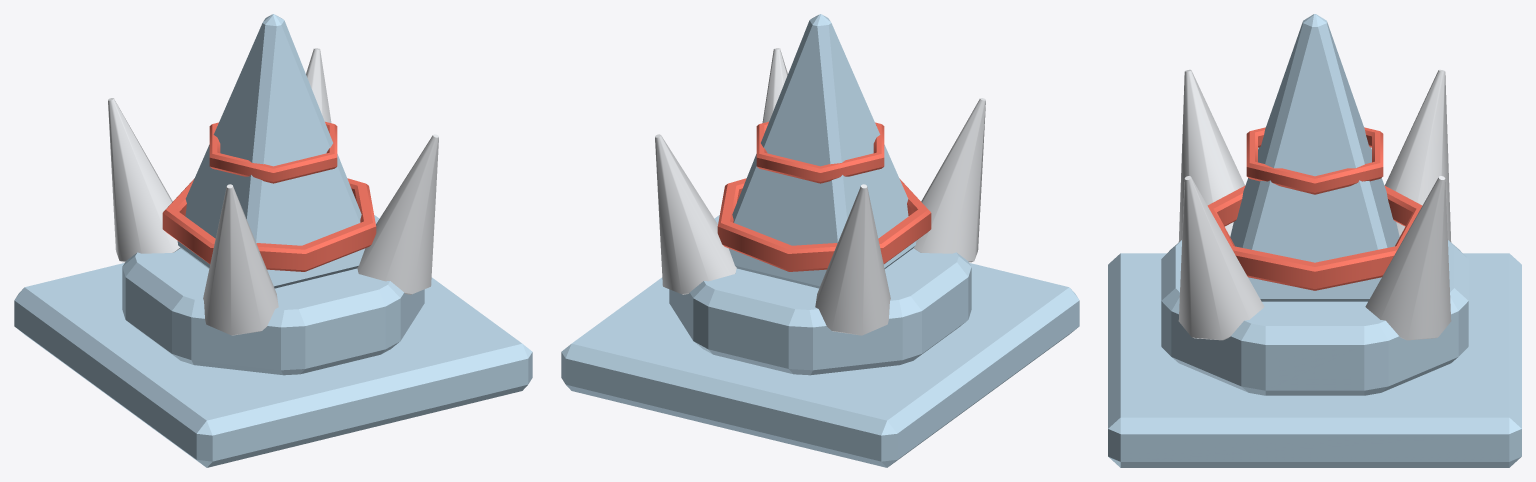
File: R4X_DamageBooster_LOD1.glb
3 renders of one model, left to right at view 1: azimuth 30°, elevation 25°; view 2: azimuth 150°, elevation 25°; view 3: azimuth 270°, elevation 25°, orthographic. The views are drawn at different scales.
Visible parts, largest first — view 1: R4X_DamageBooster_LOD1; view 2: R4X_DamageBooster_LOD1; view 3: R4X_DamageBooster_LOD1.
Part boxes in pixels (x1,y1,x2,y2): R4X_DamageBooster_LOD1: [14, 14, 532, 467]; R4X_DamageBooster_LOD1: [561, 14, 1079, 467]; R4X_DamageBooster_LOD1: [1108, 14, 1521, 467].
Bounding box in the file's own units: 0.52 × 0.515 × 0.52.
